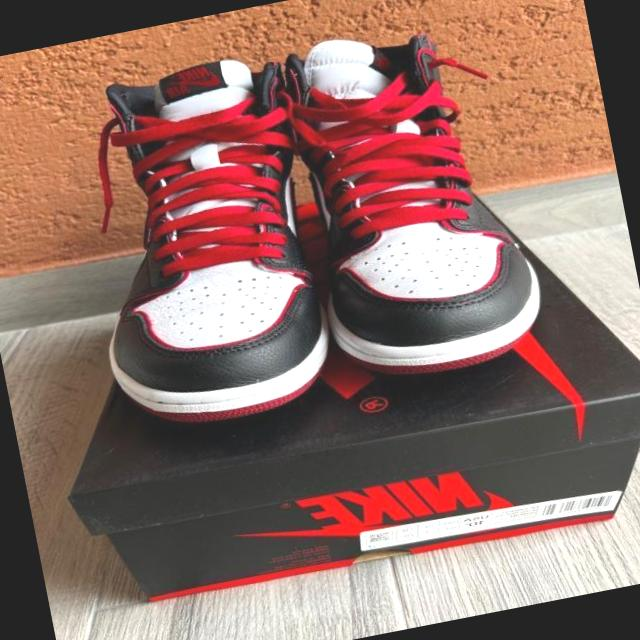nike_original_jordan: (51, 38, 349, 440), (268, 4, 553, 390)
